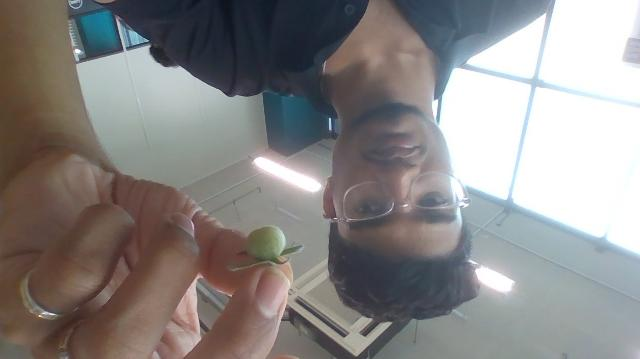Fruit Maturation: (245, 224, 287, 263)
